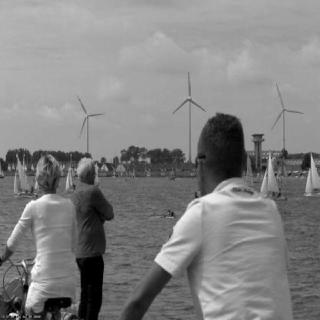other: (67, 177, 115, 263)
